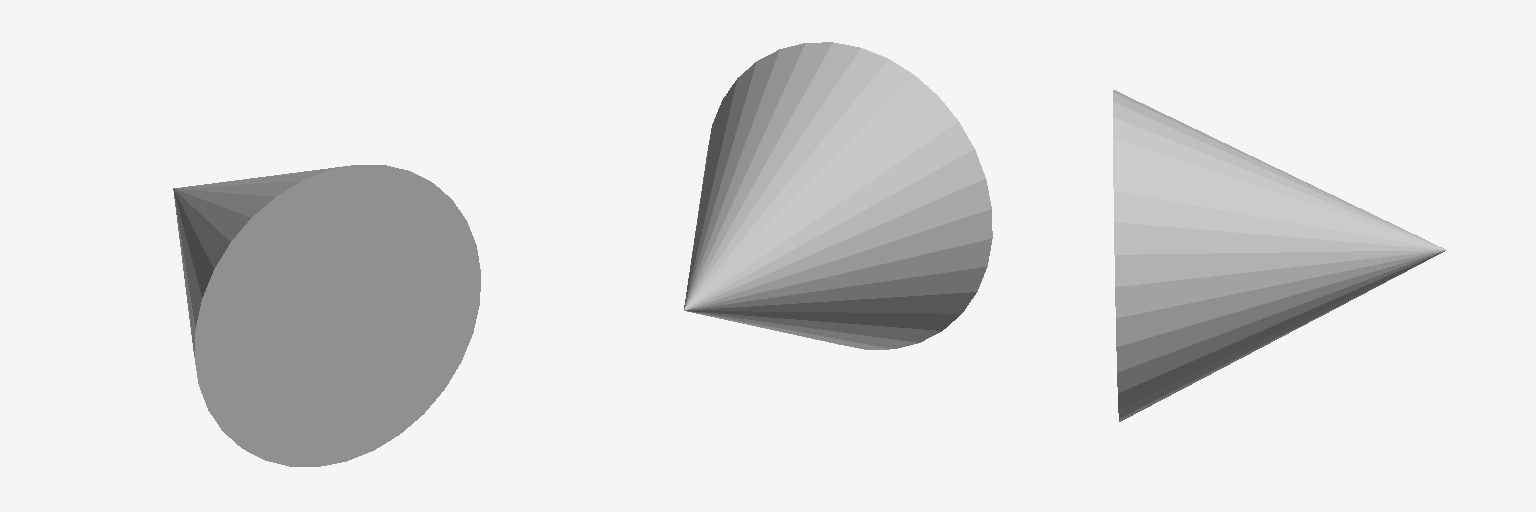
The model's file is player2.obj.
3 renders of one model, left to right at view 1: azimuth 30°, elevation 25°; view 2: azimuth 150°, elevation 25°; view 3: azimuth 270°, elevation 25°, orthographic.
Visible parts, largest first — view 1: 円錐; view 2: 円錐; view 3: 円錐.
Part boxes in pixels (x1,y1,x2,y2): 円錐: (173,165,480,466); 円錐: (684,42,992,349); 円錐: (1113,90,1445,421).
Bounding box in the file's own units: 2 × 2 × 2.02.